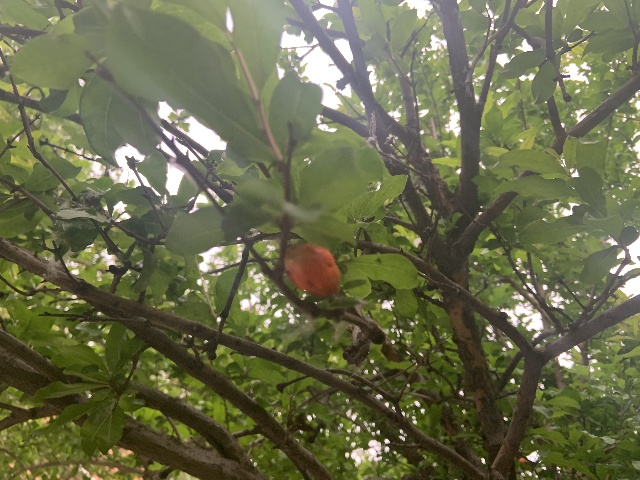bud: (284, 243, 340, 298)
